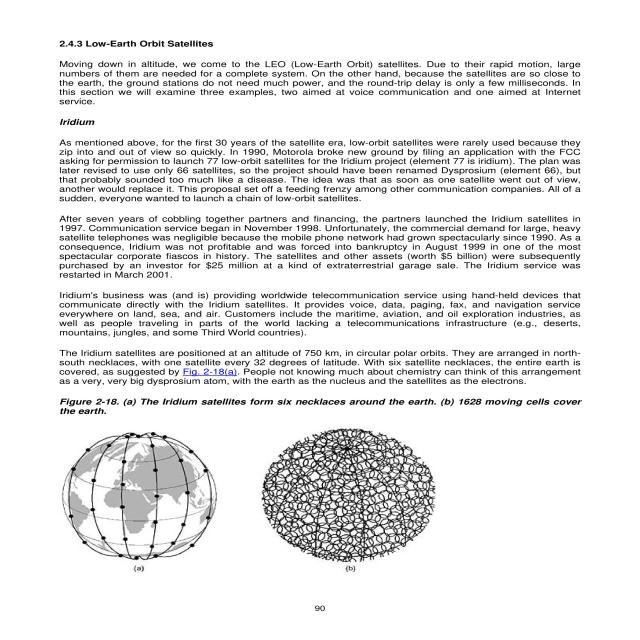diagram: (45, 396, 591, 577)
